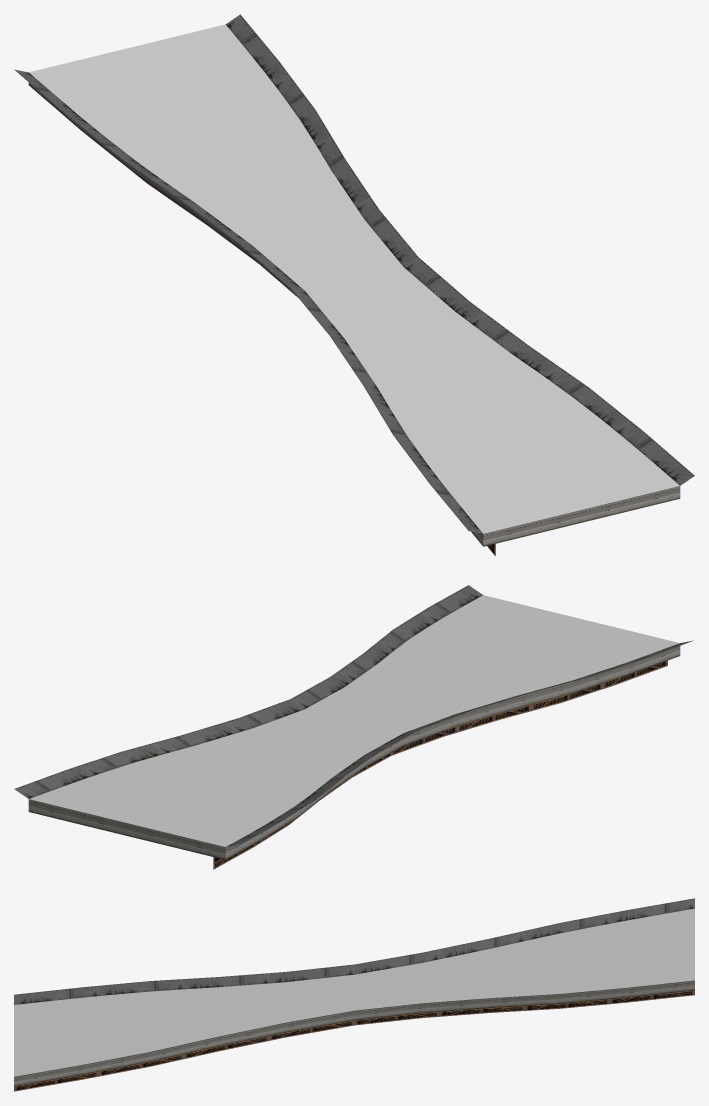
File: ChicaneSlope.fbx
3 views of the same model, one above another, from view 1: azimuth 30°, elevation 25°; view 2: azimuth 150°, elevation 25°; view 3: azimuth 270°, elevation 25° (orthographic). The views are drawn at different scales.
Visible parts, largest first — view 1: Empty_Mesh; view 2: Empty_Mesh; view 3: Empty_Mesh.
Part boxes in pixels (x1,y1,x2,y2): Empty_Mesh: (14, 14, 694, 555); Empty_Mesh: (14, 585, 693, 869); Empty_Mesh: (14, 898, 694, 1091).
Size of the model in its own units: 18.4 by 12.5 by 64.
